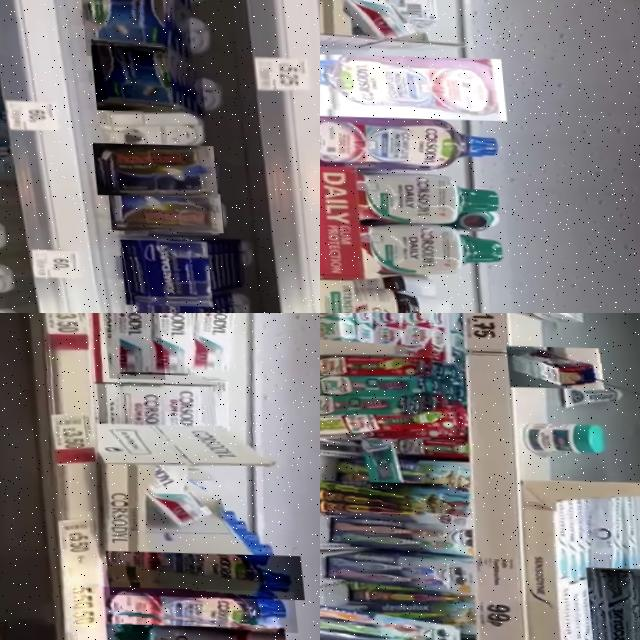Other: (320, 102, 501, 177), (320, 46, 502, 119), (320, 157, 504, 229), (61, 579, 287, 631), (331, 216, 501, 283), (96, 544, 295, 598), (88, 138, 214, 196), (110, 234, 206, 304), (88, 40, 170, 109), (103, 185, 218, 230), (94, 617, 278, 640), (327, 281, 449, 313), (515, 414, 603, 454), (124, 290, 205, 313), (549, 379, 620, 401)
Toothbrush: (320, 475, 461, 515), (320, 398, 442, 444), (320, 511, 464, 549), (320, 598, 448, 640), (340, 451, 467, 492), (320, 550, 466, 585), (571, 493, 629, 570), (320, 344, 431, 380), (320, 385, 417, 418), (320, 367, 418, 399)
Toothpaste: (575, 563, 640, 640), (500, 341, 597, 388), (182, 313, 247, 383), (141, 313, 205, 377), (95, 313, 159, 376), (108, 377, 168, 438), (152, 373, 198, 427), (400, 313, 438, 359), (361, 313, 406, 348), (581, 572, 602, 640), (493, 313, 586, 324), (320, 313, 353, 342)
